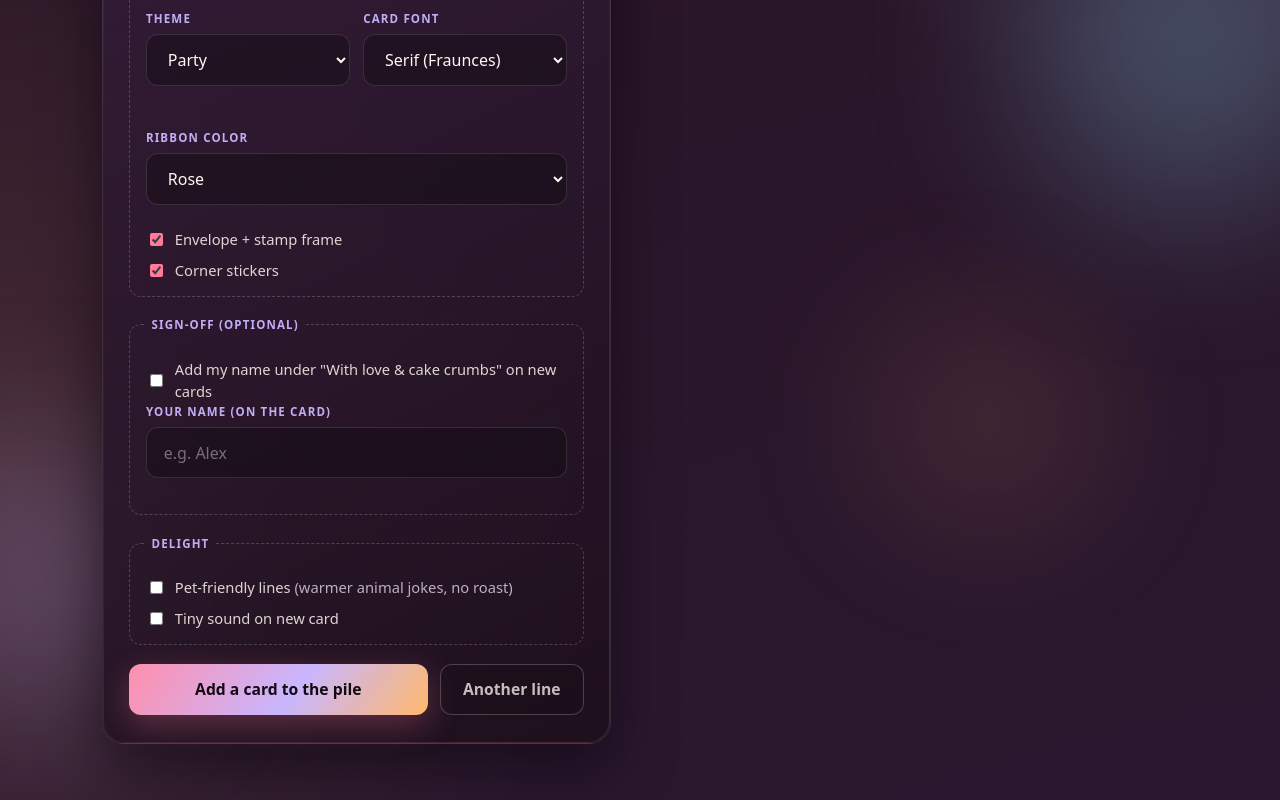
App › adds a card and clears the alert once input is valid
The width and height of the screenshot is (1280, 800).
(page scrolled)
Click the button "Add a card to the pile": {"x": 278, "y": 689} x1=129 y1=664 x2=428 y2=715
(page scrolled)
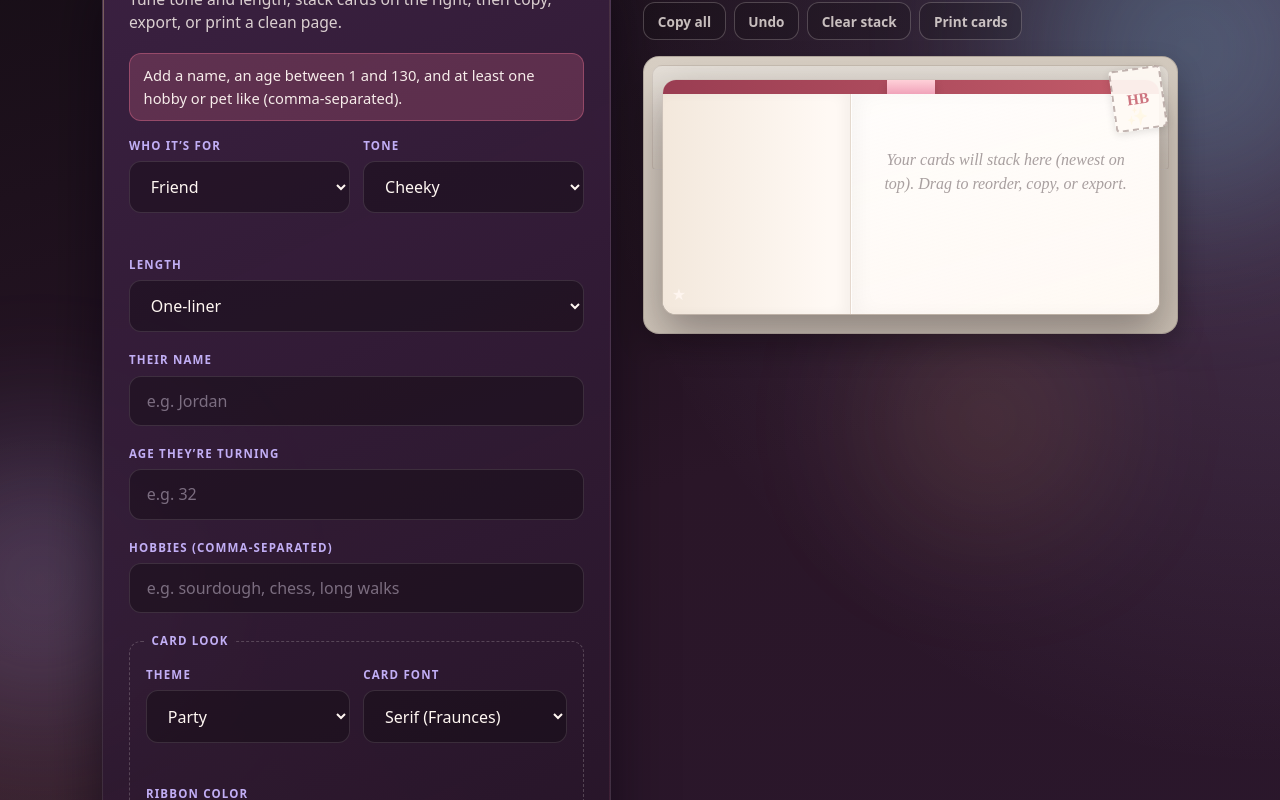
expect the message is shown: met, box x1=129 y1=53 x2=584 y2=121
In the field labelled "Their name": {"x": 356, "y": 401} x1=129 y1=376 x2=584 y2=426, type "Jordan"
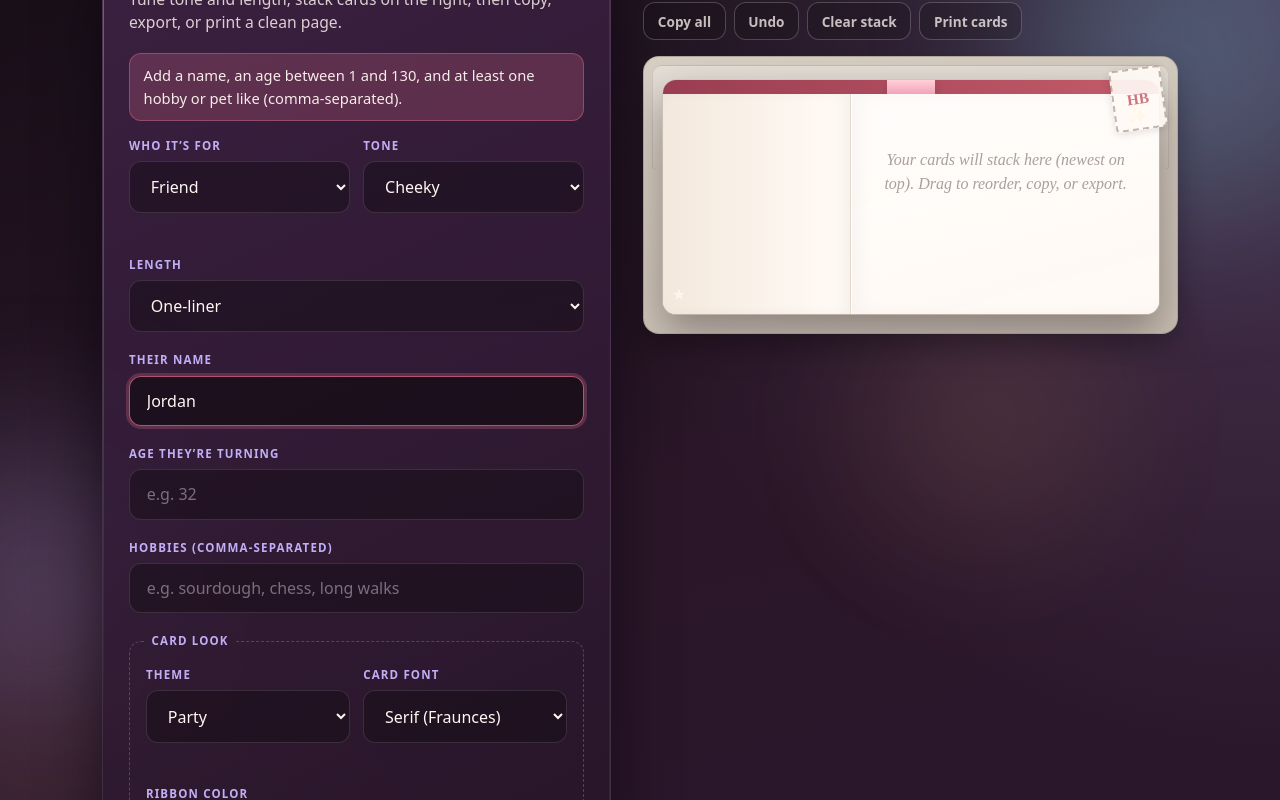
In the number field labelled "Age they’re turning": {"x": 356, "y": 494} x1=129 y1=469 x2=584 y2=520, type "32"
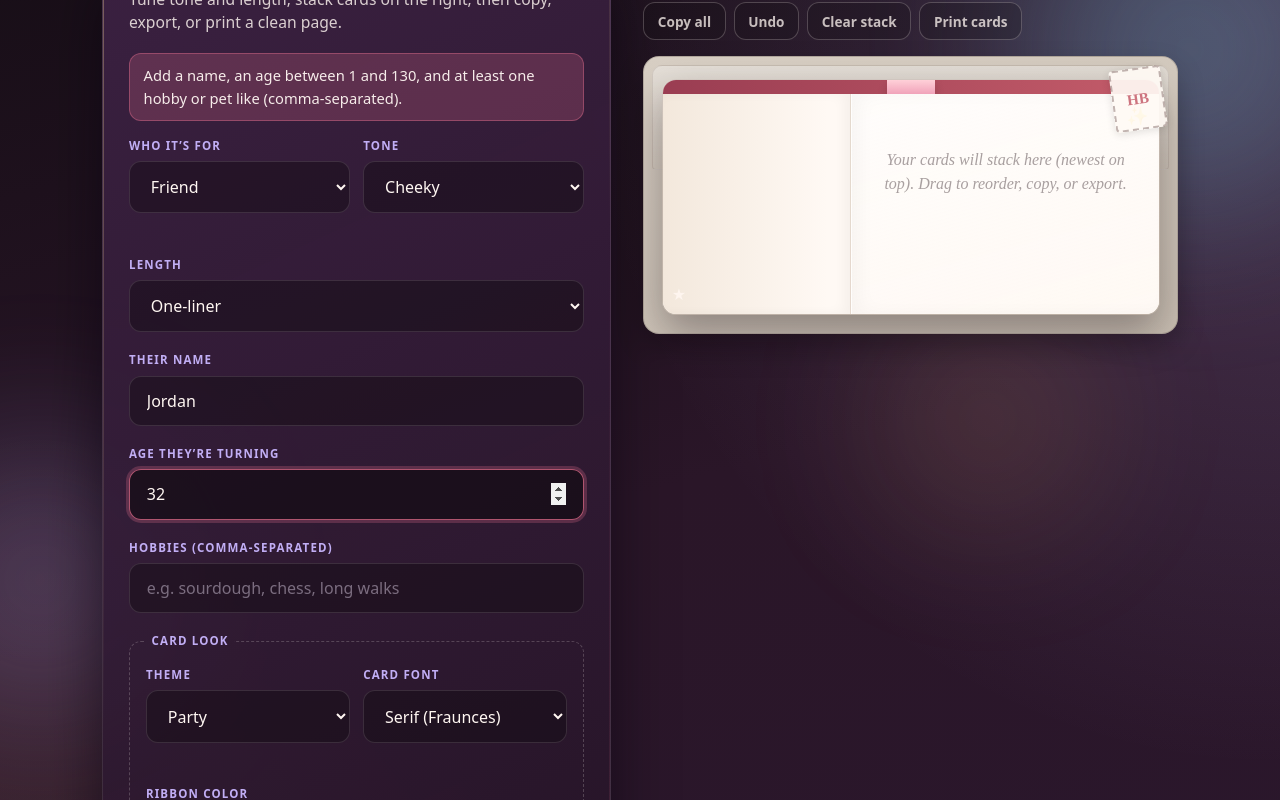
In the field labelled "Hobbies (comma-separated)": {"x": 356, "y": 588} x1=129 y1=563 x2=584 y2=613, type "chess, hiking"
(page scrolled)
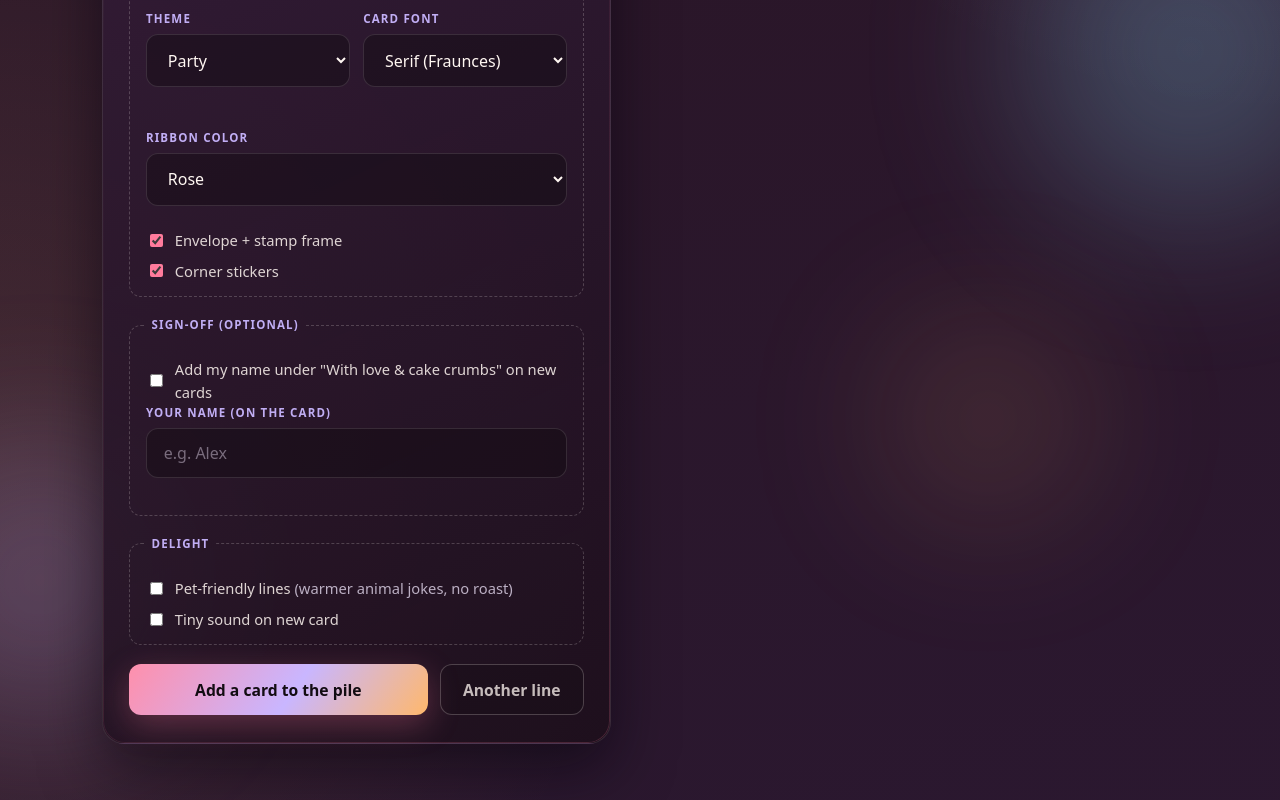
Click the button "Add a card to the pile": {"x": 278, "y": 690} x1=129 y1=664 x2=428 y2=715
(page scrolled)
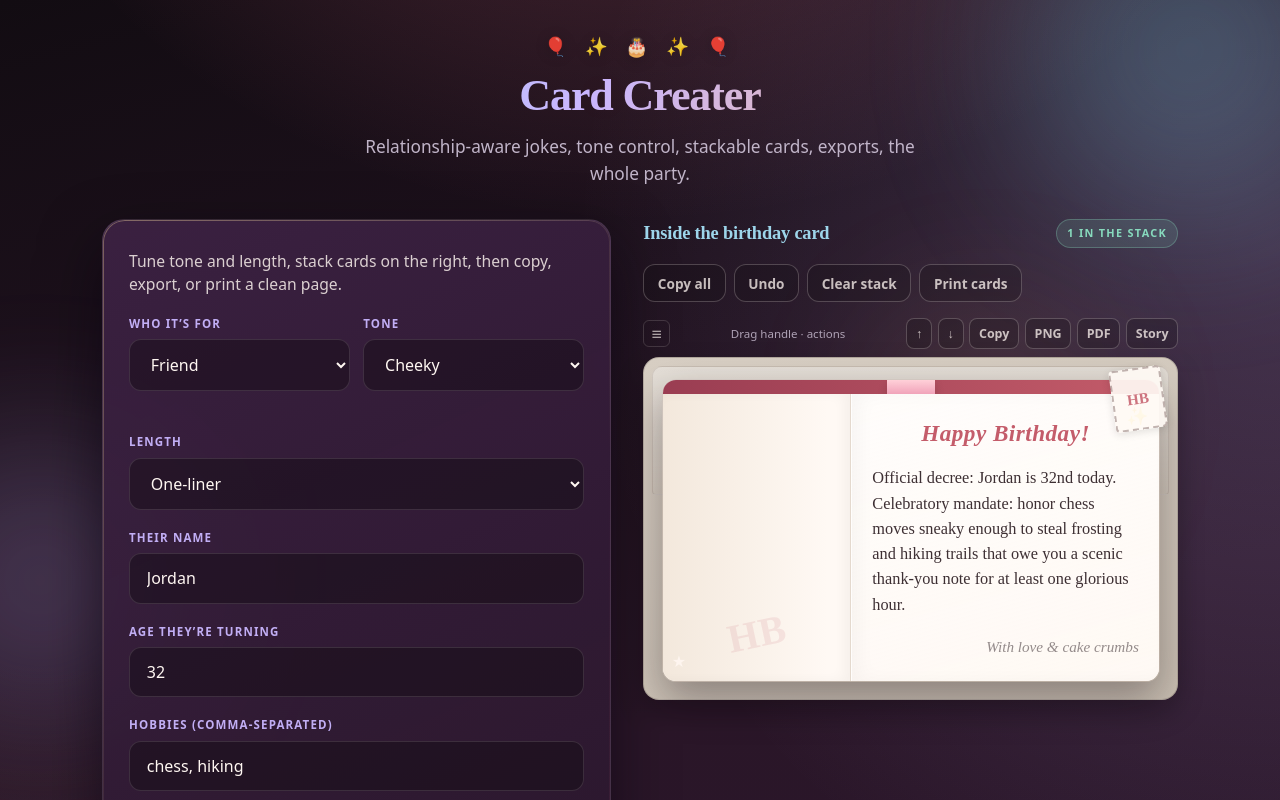
expect the text "1 in the stack" is shown: met, box x1=1056 y1=219 x2=1178 y2=248
